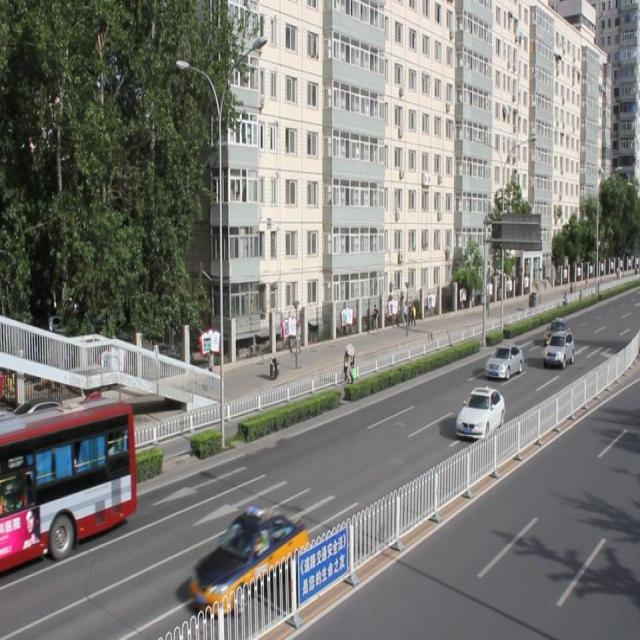car: (188, 506, 308, 614), (454, 384, 504, 441), (484, 342, 522, 381), (542, 330, 574, 365)
van: (1, 401, 135, 557)
